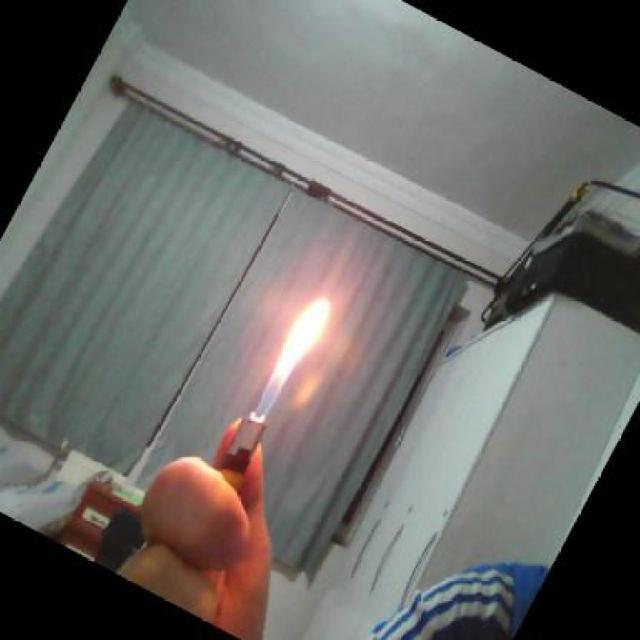Fire: (251, 283, 329, 420)
